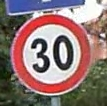limite 30: (8, 13, 91, 95)
